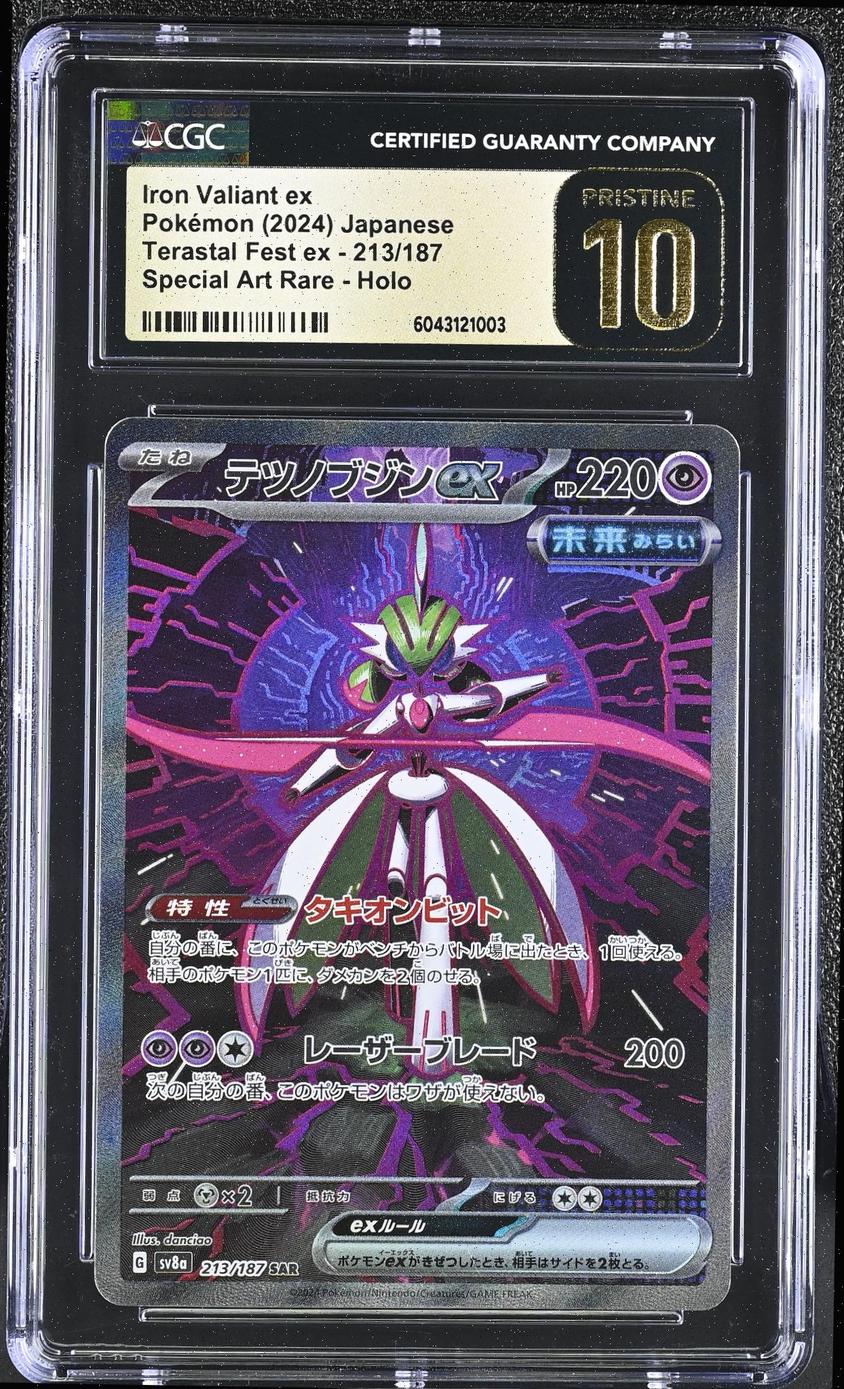card-2UtV: (94, 416, 740, 1311)
